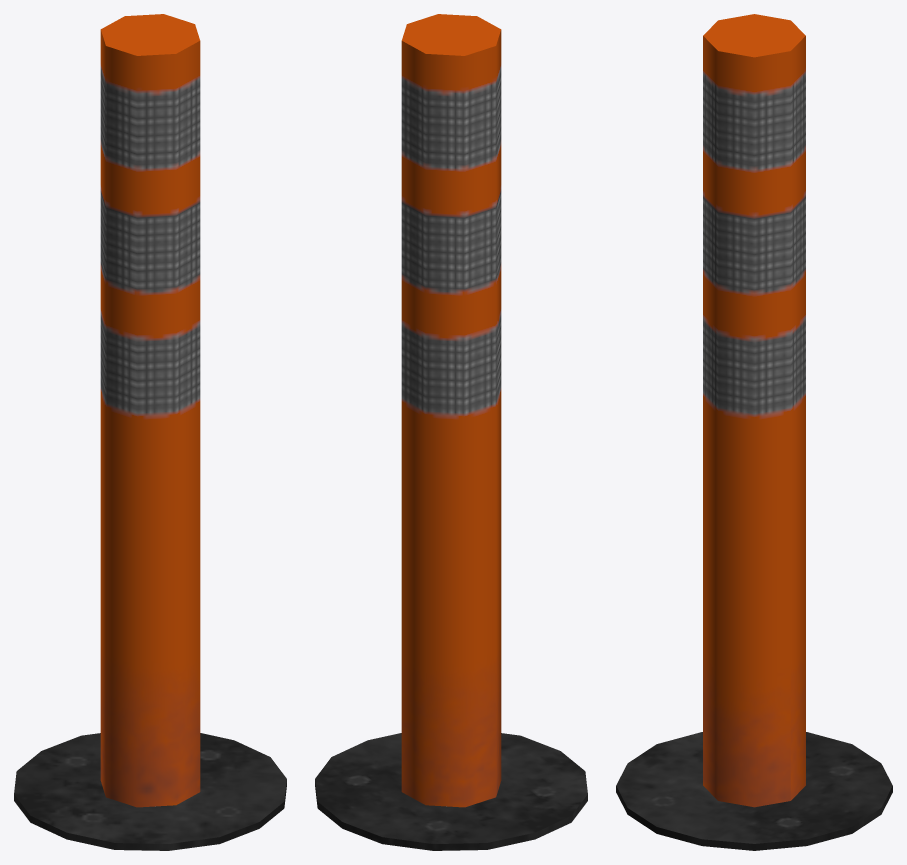
The model's file is ReflectorColumn.FBX.
The picture shows the model from 3 angles, left to right: view 1: azimuth 30°, elevation 25°; view 2: azimuth 150°, elevation 25°; view 3: azimuth 270°, elevation 25°; orthographic projection.
Visible parts, largest first — view 1: ReflectorColumn; view 2: ReflectorColumn; view 3: ReflectorColumn.
Boxes of the visible parts, x1,y1,x2,y2 form: ReflectorColumn: (14, 14, 286, 850); ReflectorColumn: (315, 14, 587, 850); ReflectorColumn: (616, 14, 892, 850).
Bounding box in the file's own units: 8.48 × 25.59 × 8.48.
